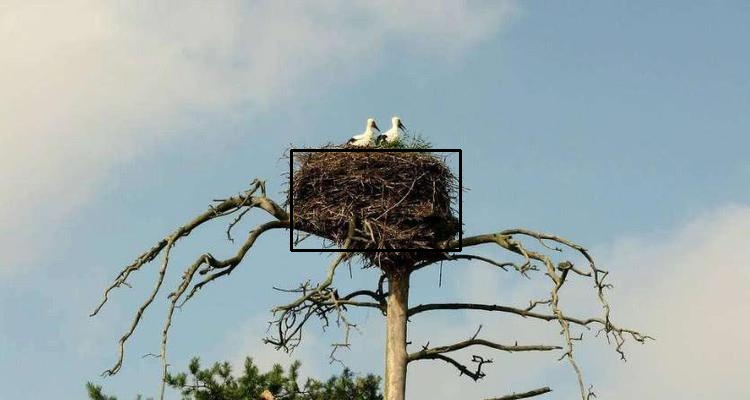bird-nest: (291, 150, 460, 250)
